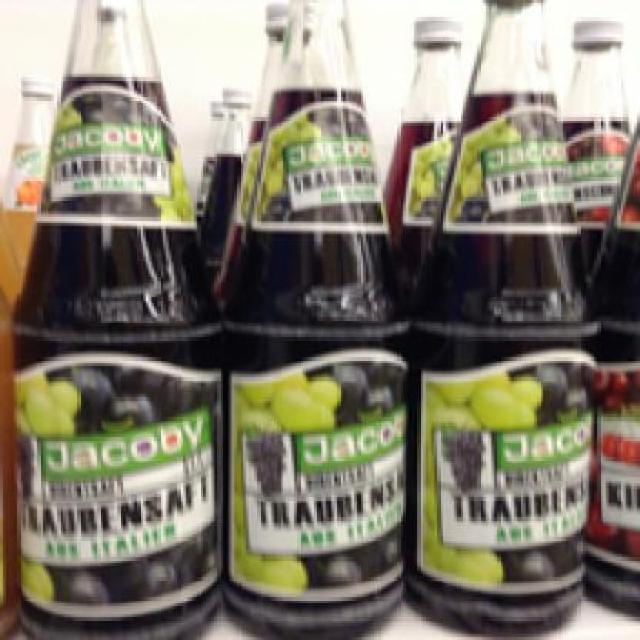Juice: (9, 0, 222, 637), (403, 0, 601, 635), (221, 0, 409, 635)
